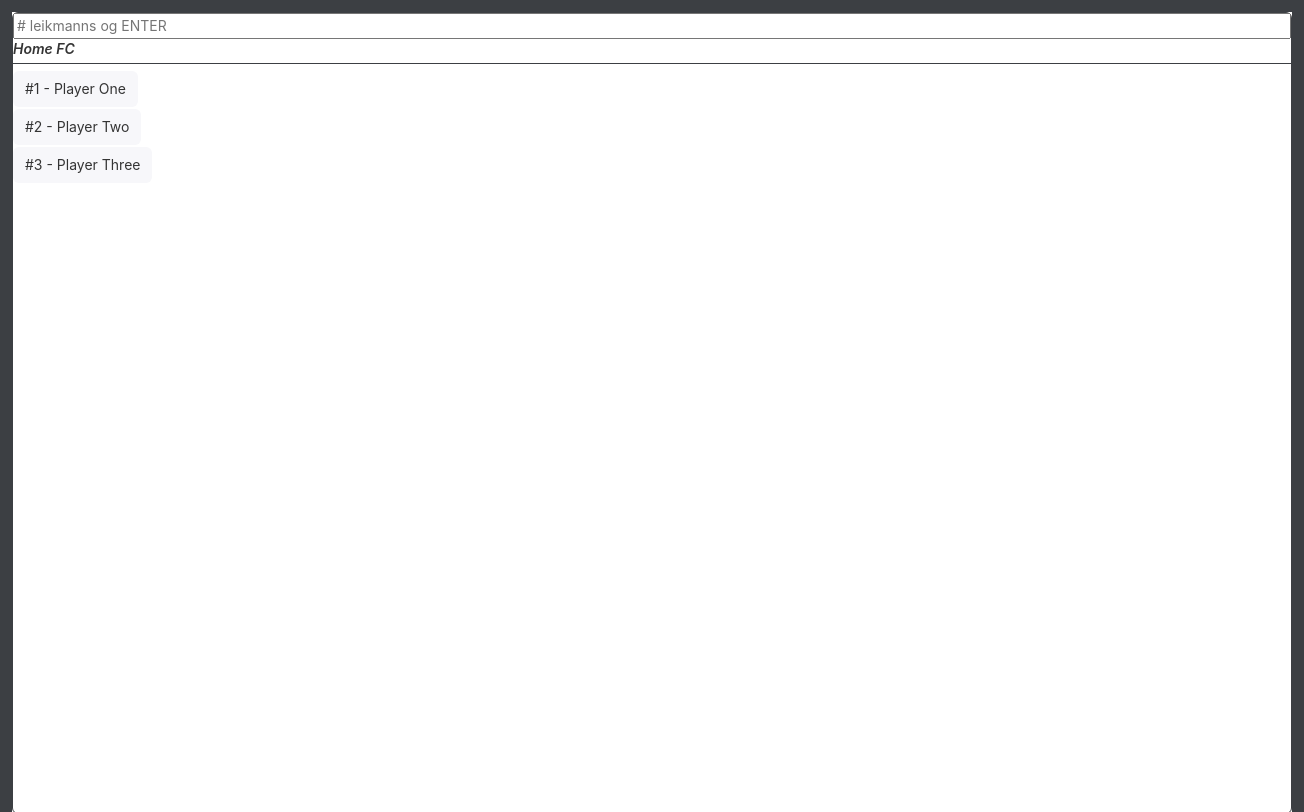
Team › Select player mode › should show error when player number not found on submit
The image size is (1304, 812).
Step 1. Type "99" into the field with placeholder "# leikmanns og ENTER" → (652, 26), box x1=13 y1=13 x2=1291 y2=39
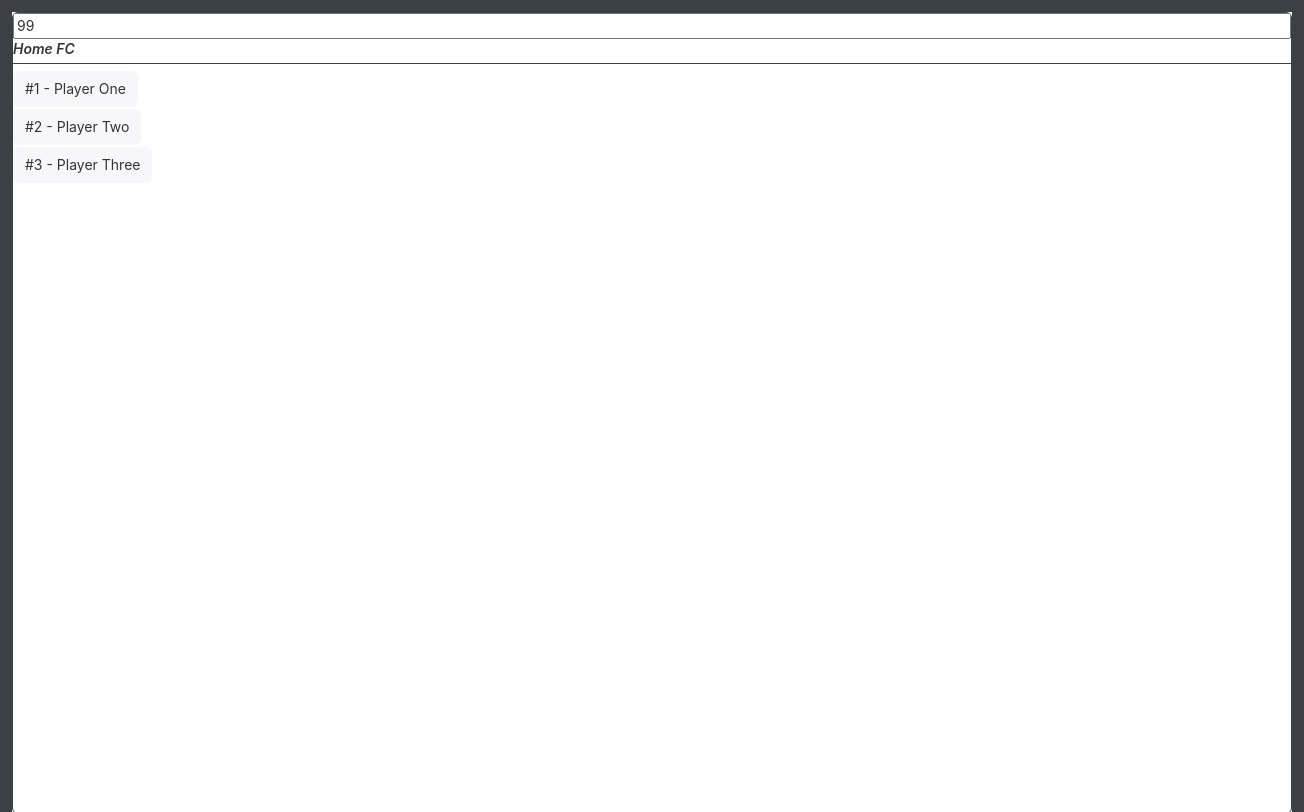
Step 2. Submit the form with placeholder "# leikmanns og ENTER", box x1=13 y1=13 x2=1291 y2=39
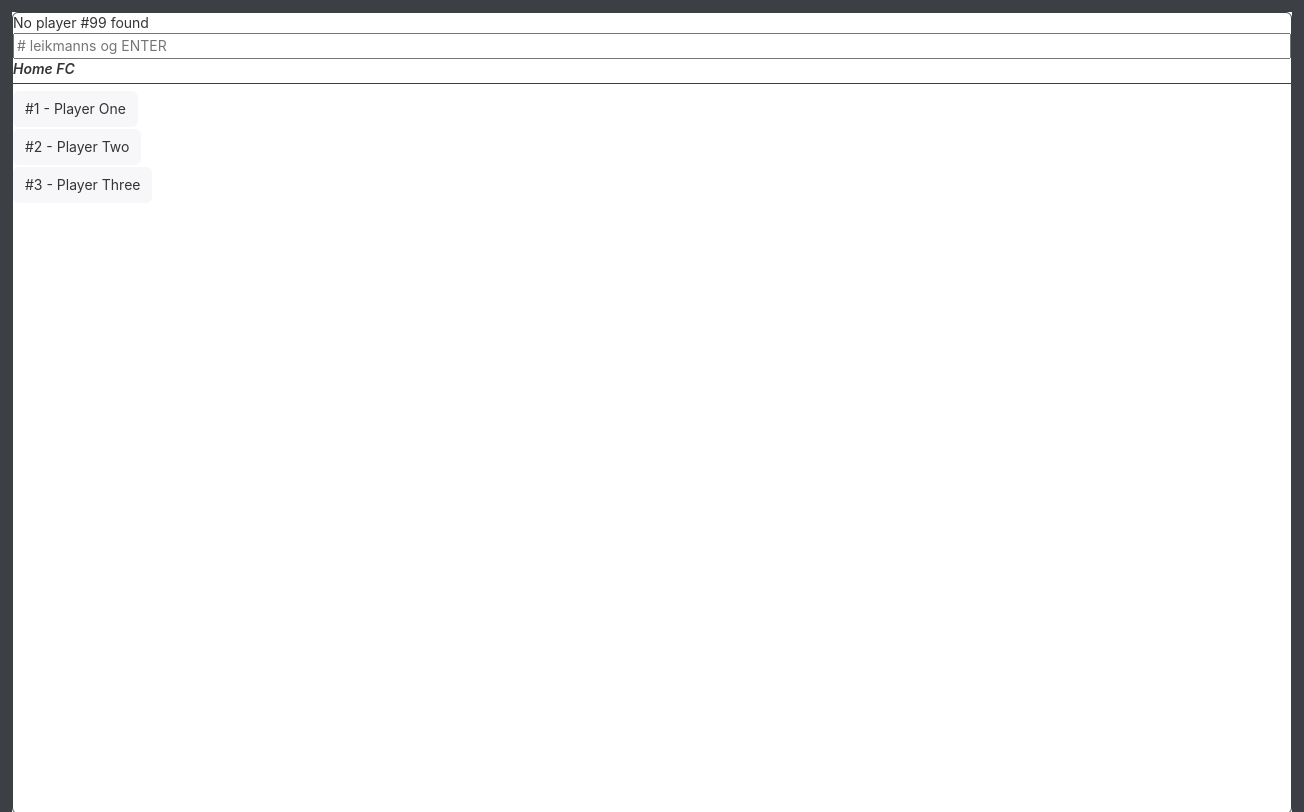
Result: the text "No player #99 found" is shown at x1=13 y1=14 x2=149 y2=31
